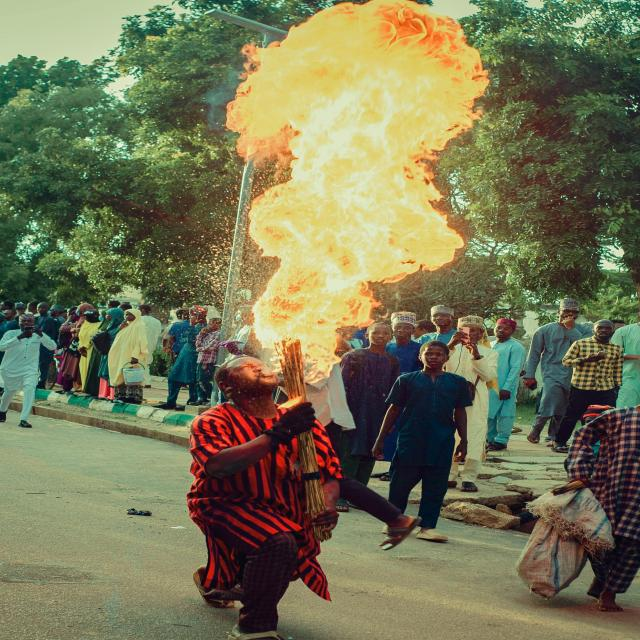fire: (228, 0, 487, 384)
